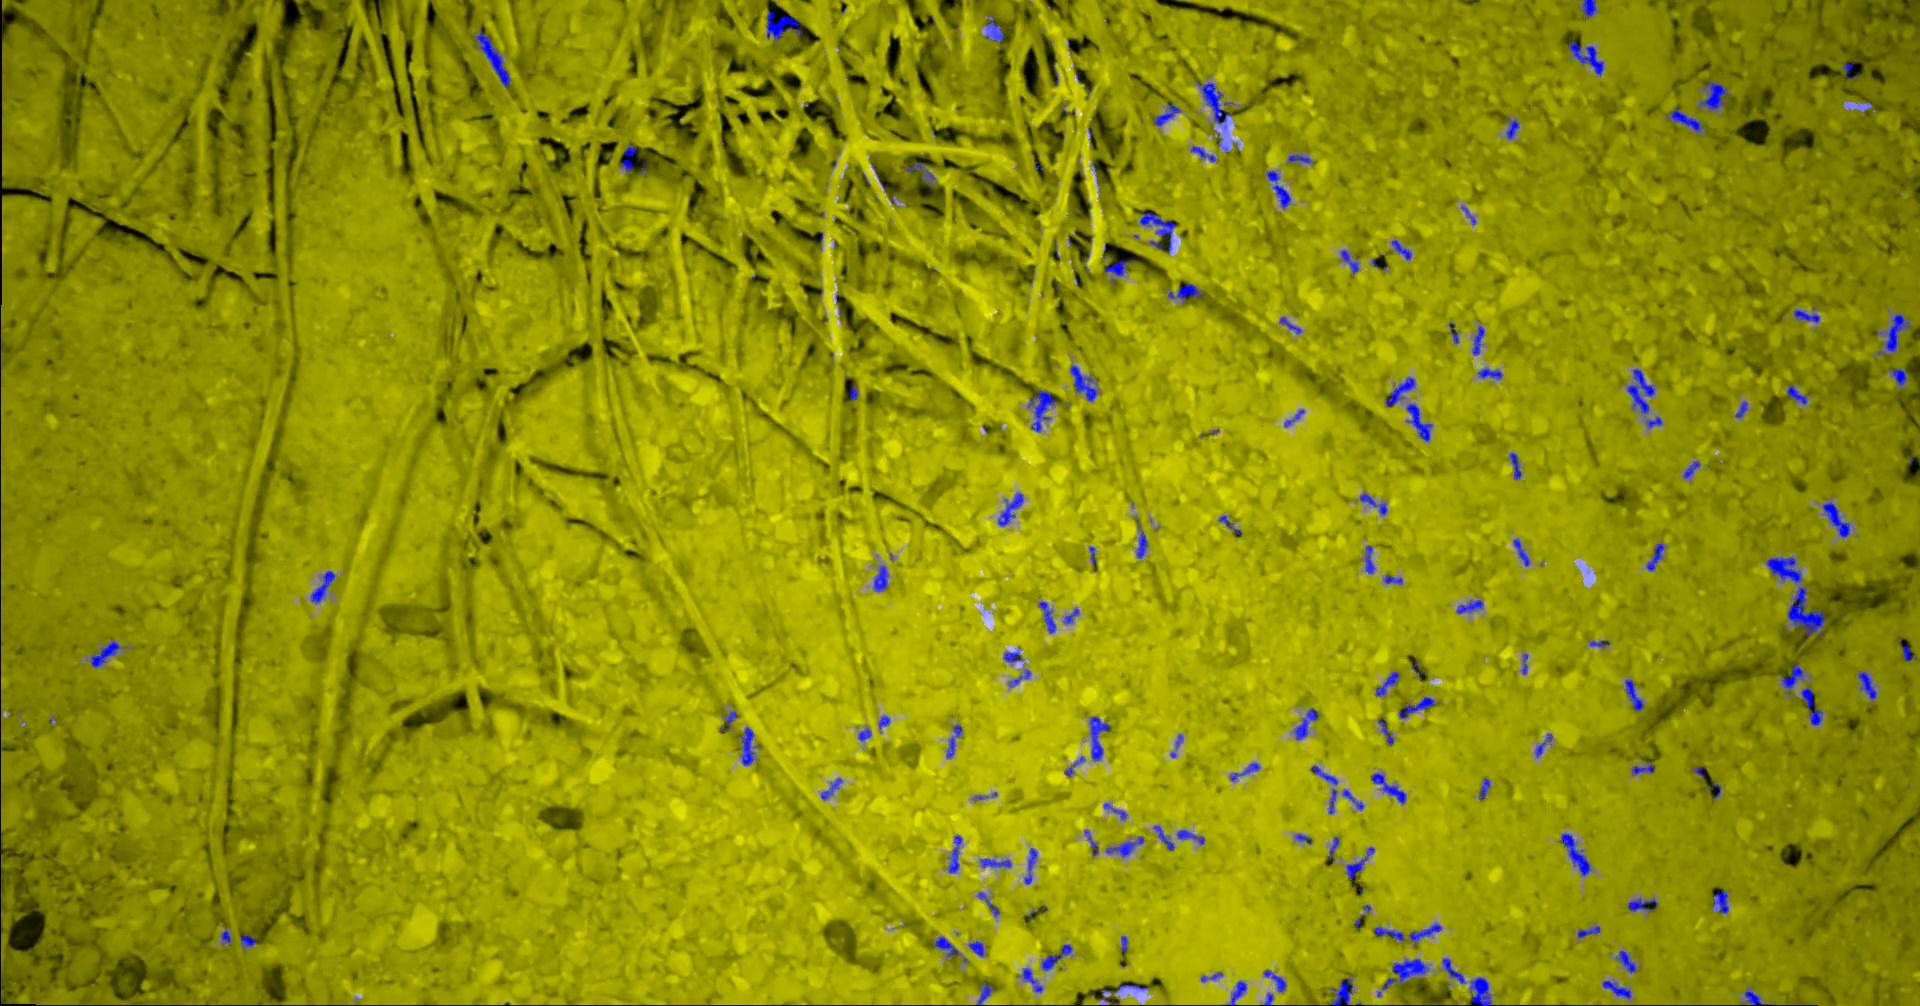ant: (1443, 958, 1491, 1005), (475, 28, 510, 86), (1785, 586, 1825, 636), (1195, 79, 1232, 128), (1139, 211, 1175, 251), (1876, 312, 1909, 354), (1625, 368, 1655, 414), (1559, 832, 1590, 875), (1310, 765, 1337, 813), (1567, 41, 1603, 75), (1027, 389, 1055, 431), (766, 9, 803, 39), (1370, 772, 1406, 803), (1404, 403, 1432, 441), (1069, 365, 1097, 401), (1390, 958, 1429, 984), (1821, 502, 1849, 537), (1765, 556, 1801, 583), (1384, 376, 1415, 406), (1345, 847, 1374, 879), (1266, 170, 1290, 207), (997, 492, 1023, 525), (1666, 108, 1704, 131), (905, 161, 935, 191), (1699, 80, 1727, 111), (1801, 686, 1822, 725), (1103, 257, 1135, 283), (1090, 716, 1109, 761), (738, 727, 759, 765), (90, 640, 121, 667), (310, 570, 334, 603), (1041, 944, 1070, 970), (1105, 836, 1143, 856), (1398, 696, 1434, 718), (1293, 708, 1317, 739), (1782, 663, 1803, 694), (1167, 283, 1203, 301), (1408, 923, 1441, 942), (1153, 102, 1180, 124), (1330, 978, 1352, 1005), (1624, 680, 1643, 711), (1359, 493, 1387, 514), (1375, 671, 1399, 695), (977, 890, 999, 916), (945, 724, 961, 758), (1037, 601, 1055, 633), (1646, 542, 1665, 572), (1021, 967, 1043, 992), (932, 936, 959, 956), (1857, 671, 1876, 699), (947, 835, 961, 873), (1153, 826, 1175, 850), (620, 144, 637, 173), (1229, 762, 1258, 780), (1601, 981, 1630, 998), (1743, 987, 1771, 1005), (1263, 969, 1286, 991), (1225, 981, 1246, 1005), (984, 15, 1003, 41), (1373, 926, 1404, 941), (1023, 847, 1036, 884), (820, 777, 842, 799), (1218, 514, 1241, 535), (1512, 539, 1529, 567), (1617, 950, 1636, 973), (1340, 249, 1357, 273), (1534, 733, 1552, 757), (1103, 801, 1128, 819), (1627, 897, 1657, 911), (1190, 145, 1215, 161), (1377, 719, 1393, 744), (1390, 239, 1411, 259), (1785, 384, 1806, 404), (1064, 754, 1084, 775), (1342, 789, 1363, 809), (1277, 316, 1302, 333), (1898, 636, 1915, 661), (1712, 889, 1728, 913), (1455, 600, 1483, 614), (1176, 829, 1204, 843), (1793, 307, 1818, 323), (872, 565, 888, 591), (1472, 325, 1484, 354), (1008, 669, 1030, 686), (977, 983, 993, 1005), (1084, 829, 1098, 855), (1509, 452, 1521, 479), (719, 711, 737, 730), (1630, 760, 1655, 774), (1284, 409, 1304, 426), (979, 857, 1011, 868), (1683, 460, 1700, 478), (1890, 367, 1906, 386), (1505, 118, 1519, 138), (1477, 367, 1501, 379), (1577, 925, 1599, 937), (1137, 531, 1147, 558), (1327, 836, 1338, 859), (1288, 154, 1313, 164), (1581, 0, 1596, 17), (968, 940, 983, 956), (1364, 545, 1373, 573), (1478, 777, 1490, 799), (1448, 323, 1459, 343), (1843, 62, 1857, 79), (239, 934, 257, 946), (1063, 608, 1078, 622), (1382, 574, 1402, 584), (1644, 417, 1662, 428), (857, 727, 871, 741), (1735, 401, 1747, 417), (1003, 652, 1022, 662), (1295, 833, 1310, 843), (220, 929, 230, 942), (848, 385, 857, 400), (1589, 640, 1609, 647)
